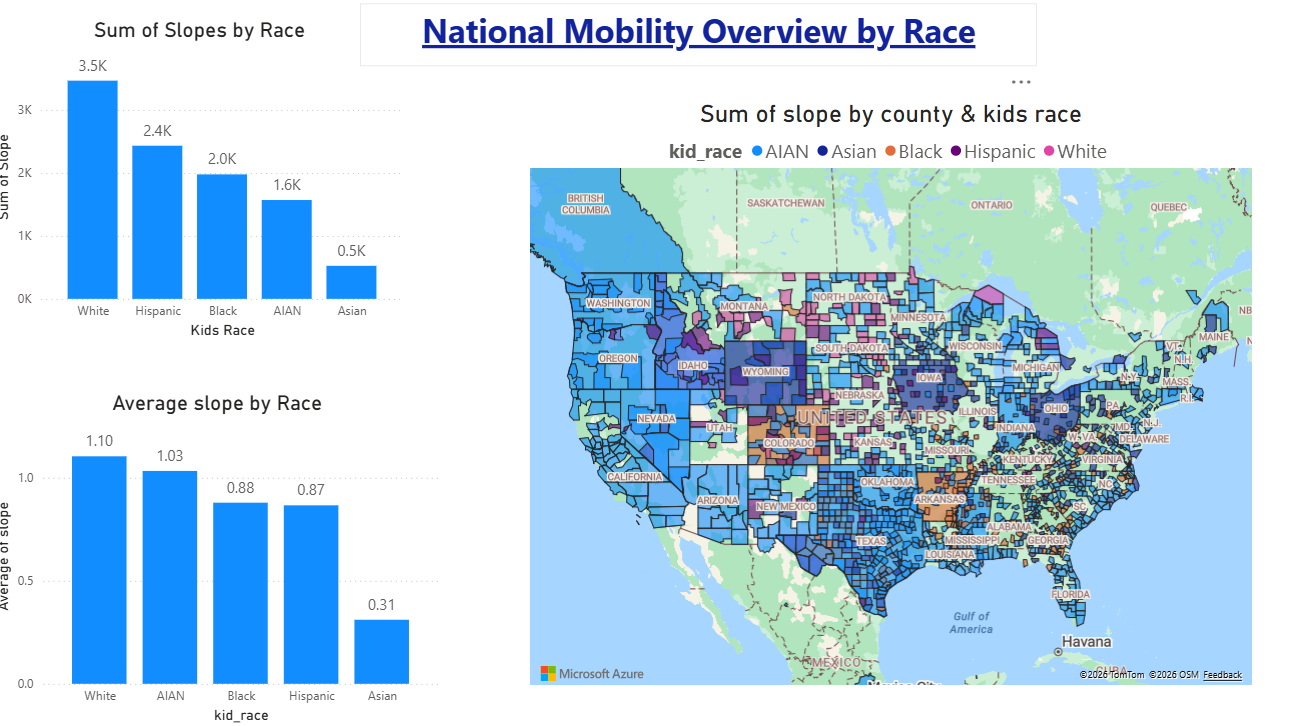

The dashboard page shown, as its layout file describes it:
{"tool":"powerbi","page":{"name":"National Mobility by Race","canvas":[1280,720],"ordinal":1},"visuals":[{"type":"columnChart","title":"Sum of Slopes by Race","fields":{"Category":["race_slopes (1).kid_race"],"Y":["Sum(race_slopes (1).slope)"]},"box":[0,24.7,410.3,319.7],"z":0},{"type":"azureMap","title":"Sum of slope by county & kids race","fields":{"Category":["race_slopes (1).County"],"Series":["race_slopes (1).kid_race"]},"box":[522.8,105.7,716.3,577.7],"z":1000},{"type":"columnChart","title":"Average slope by Race","fields":{"Category":["race_slopes (1).kid_race"],"Y":["Avg(race_slopes (1).slope)"]},"box":[0,389.7,444.6,330.7],"z":2000},{"type":"textbox","box":[362.3,11,662.8,61.7],"z":3000}]}

Visuals, with their boxes in screenshot pixels (x1, y1, x2, y2), scaled from the page's 1280x720 canvas onto the 1296x726 screenshot:
"Sum of Slopes by Race" columnChart: rect(0, 25, 415, 347)
"Sum of slope by county & kids race" azureMap: rect(529, 107, 1255, 689)
"Average slope by Race" columnChart: rect(0, 393, 450, 725)
textbox: rect(367, 11, 1038, 73)
